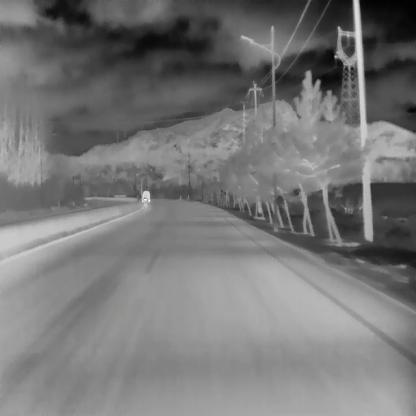car: (140, 190, 150, 202)
